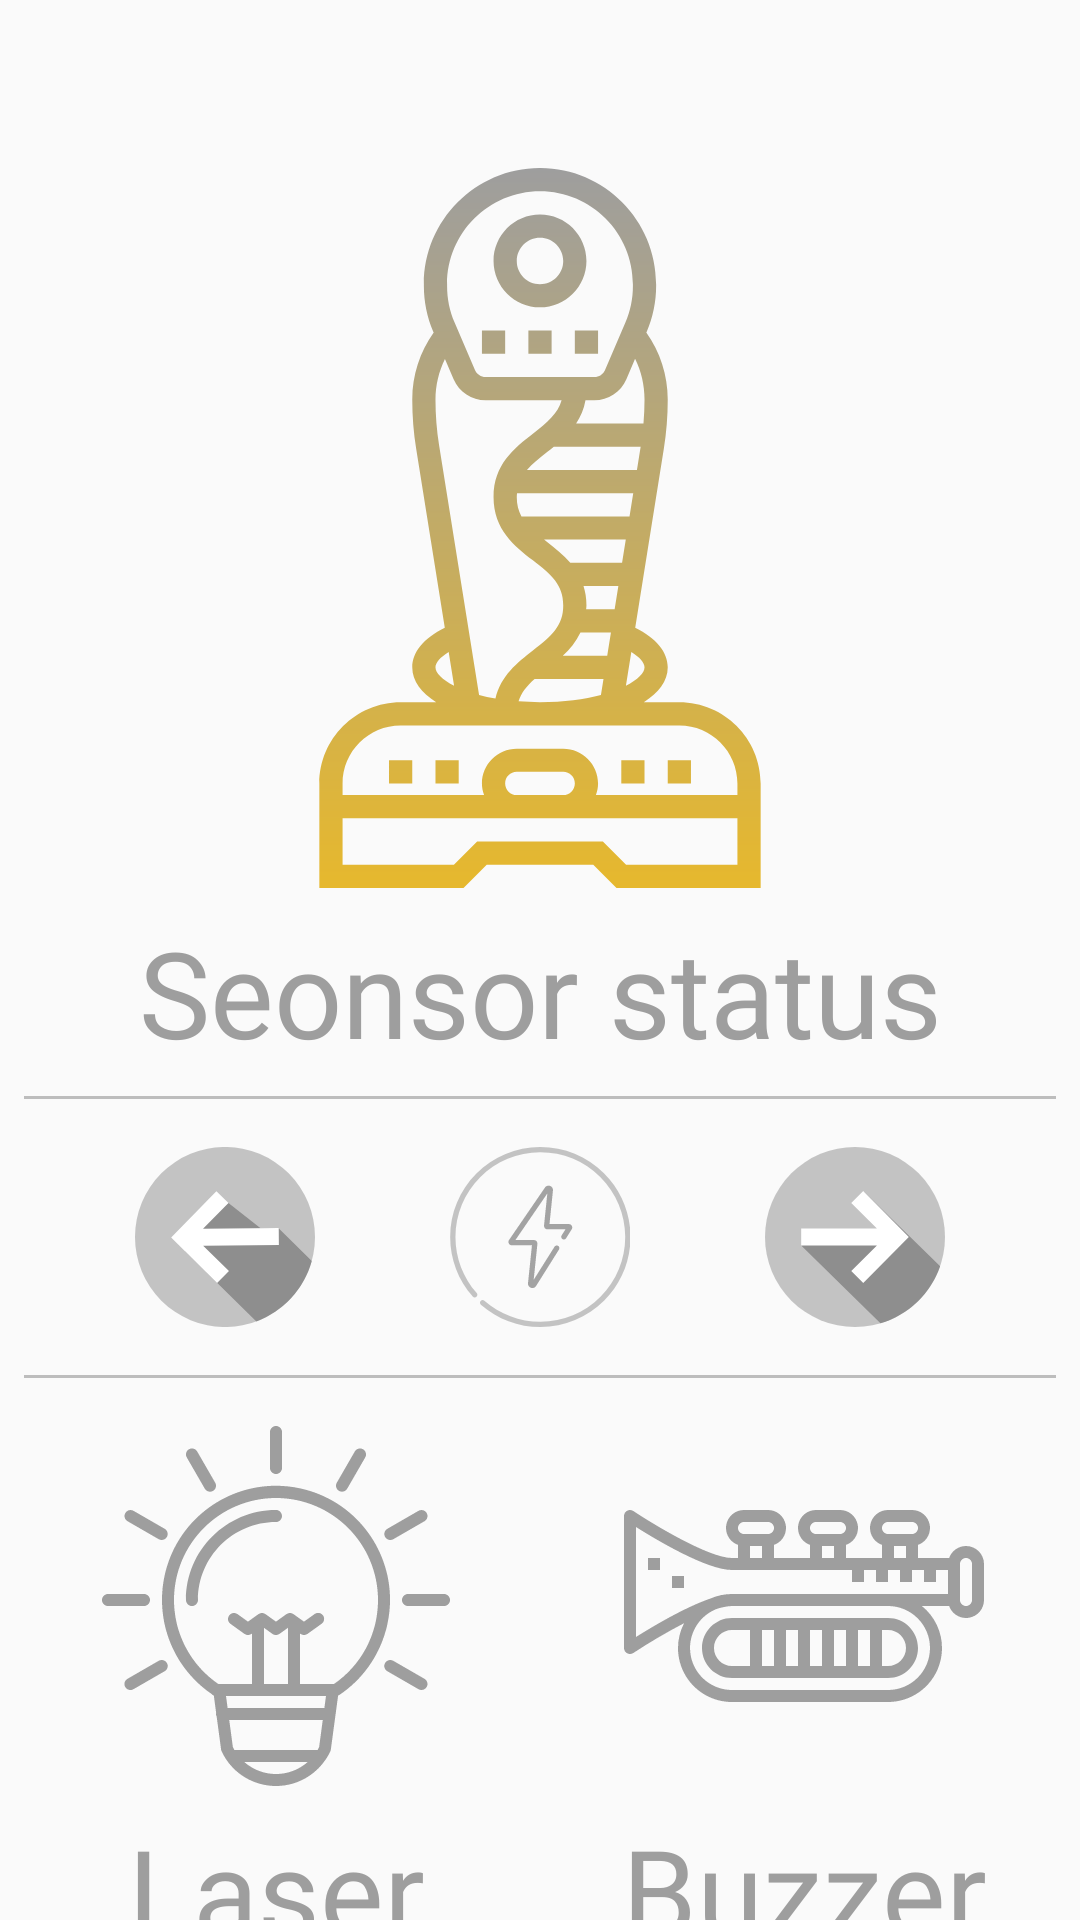

Named icons in this screenshot (1080 x 1920) and their centers, point (x, y):
back dis: point (225, 1237)
charge dis: point (540, 1237)
next dis: point (855, 1237)
trumpet dis: point (804, 1606)
